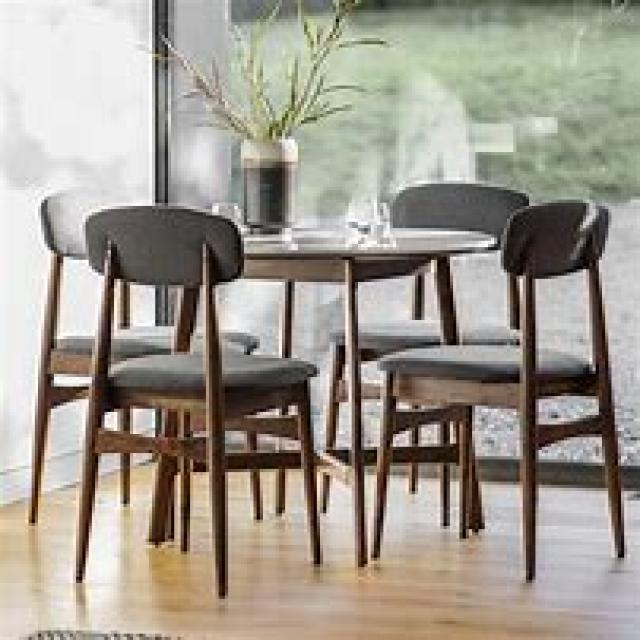chair: (368, 196, 624, 580), (25, 187, 260, 526), (320, 181, 529, 529)
table: (86, 215, 500, 564)
